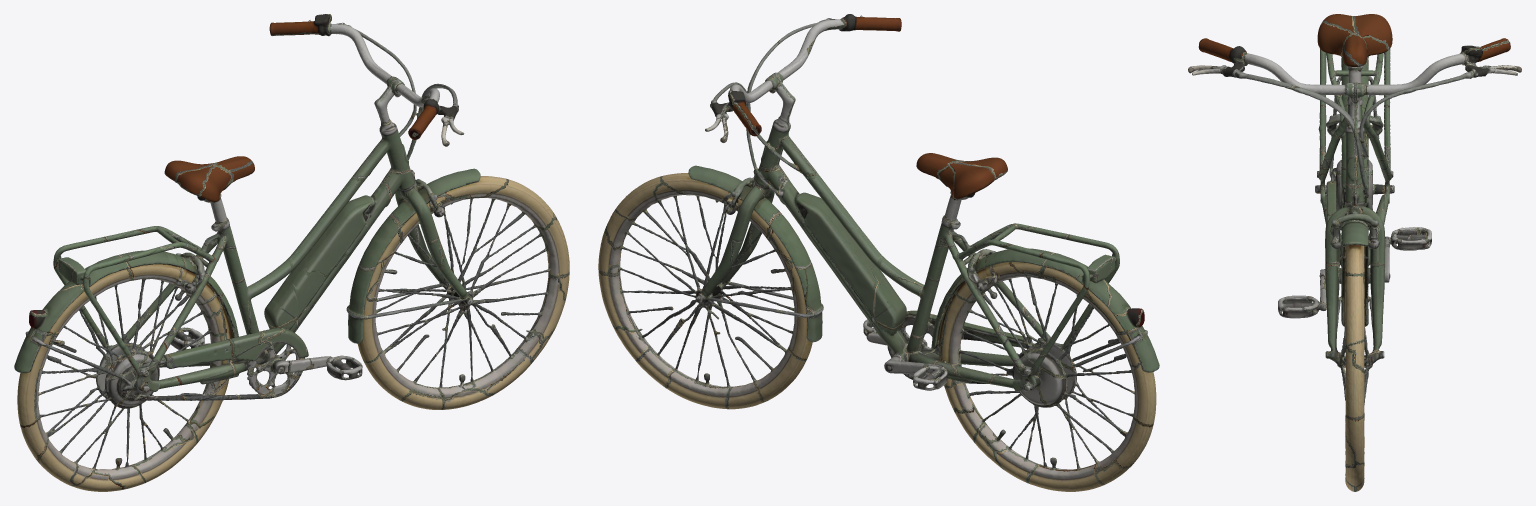
Rendered from storage-box.glb.
The picture shows the model from 3 angles, left to right: view 1: azimuth 30°, elevation 25°; view 2: azimuth 150°, elevation 25°; view 3: azimuth 270°, elevation 25°; orthographic projection. The views are drawn at different scales.
Visible parts, largest first — view 1: tripo_node_d3524565-18fb-4ecf-aa85-c51e846fcfe1; view 2: tripo_node_d3524565-18fb-4ecf-aa85-c51e846fcfe1; view 3: tripo_node_d3524565-18fb-4ecf-aa85-c51e846fcfe1.
Part boxes in pixels (x1=…): tripo_node_d3524565-18fb-4ecf-aa85-c51e846fcfe1: x1=14, y1=14, x2=569, y2=491; tripo_node_d3524565-18fb-4ecf-aa85-c51e846fcfe1: x1=598, y1=14, x2=1159, y2=491; tripo_node_d3524565-18fb-4ecf-aa85-c51e846fcfe1: x1=1188, y1=14, x2=1521, y2=491.
Size of the model in its own units: 1.6 by 1.03 by 0.7925.
Materials: 1 (1 with a texture image).
